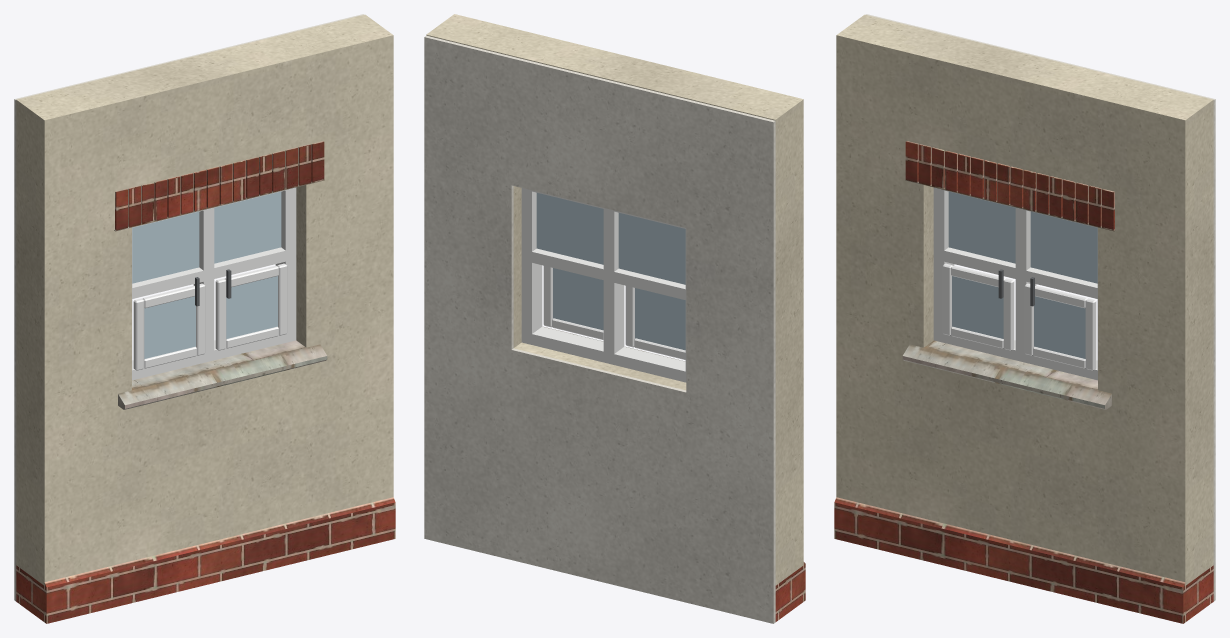
Rendered from gw_gwin.glb.
3 views of the same model, side by side, from view 1: azimuth 30°, elevation 25°; view 2: azimuth 150°, elevation 25°; view 3: azimuth 330°, elevation 25° (orthographic).
Visible parts, largest first — view 1: gw_gwin_render, gw_gwin_brick, gw_gwin_glass, gw_gwin_frame, gw_gwin_cill, gw_gwin_sash, gw_gwin_plaster; view 2: gw_gwin_plaster, gw_gwin_render, gw_gwin_glass, gw_gwin_frame, gw_gwin_sash, gw_gwin_brick; view 3: gw_gwin_render, gw_gwin_brick, gw_gwin_glass, gw_gwin_frame, gw_gwin_cill, gw_gwin_sash, gw_gwin_plaster.
Part boxes in pixels (x1,y1,x2,y2): gw_gwin_render: (16,14,393,585); gw_gwin_brick: (16,141,395,623); gw_gwin_glass: (132,191,281,358); gw_gwin_frame: (132,187,296,380); gw_gwin_cill: (114,179,327,409); gw_gwin_sash: (133,263,287,370); gw_gwin_plaster: (14,14,363,601); gw_gwin_plaster: (424,35,775,623); gw_gwin_render: (426,14,803,585); gw_gwin_glass: (536,193,685,350); gw_gwin_frame: (521,188,686,382); gw_gwin_sash: (543,266,685,359); gw_gwin_brick: (775,562,805,621); gw_gwin_render: (836,14,1213,585); gw_gwin_brick: (834,141,1213,623); gw_gwin_glass: (948,191,1097,358); gw_gwin_frame: (933,187,1097,380); gw_gwin_cill: (902,179,1115,409); gw_gwin_sash: (942,263,1096,370); gw_gwin_plaster: (866,14,1215,601).
Bounding box in the file's own units: 2 × 2.75 × 0.37.
8 materials, 4 textured.
